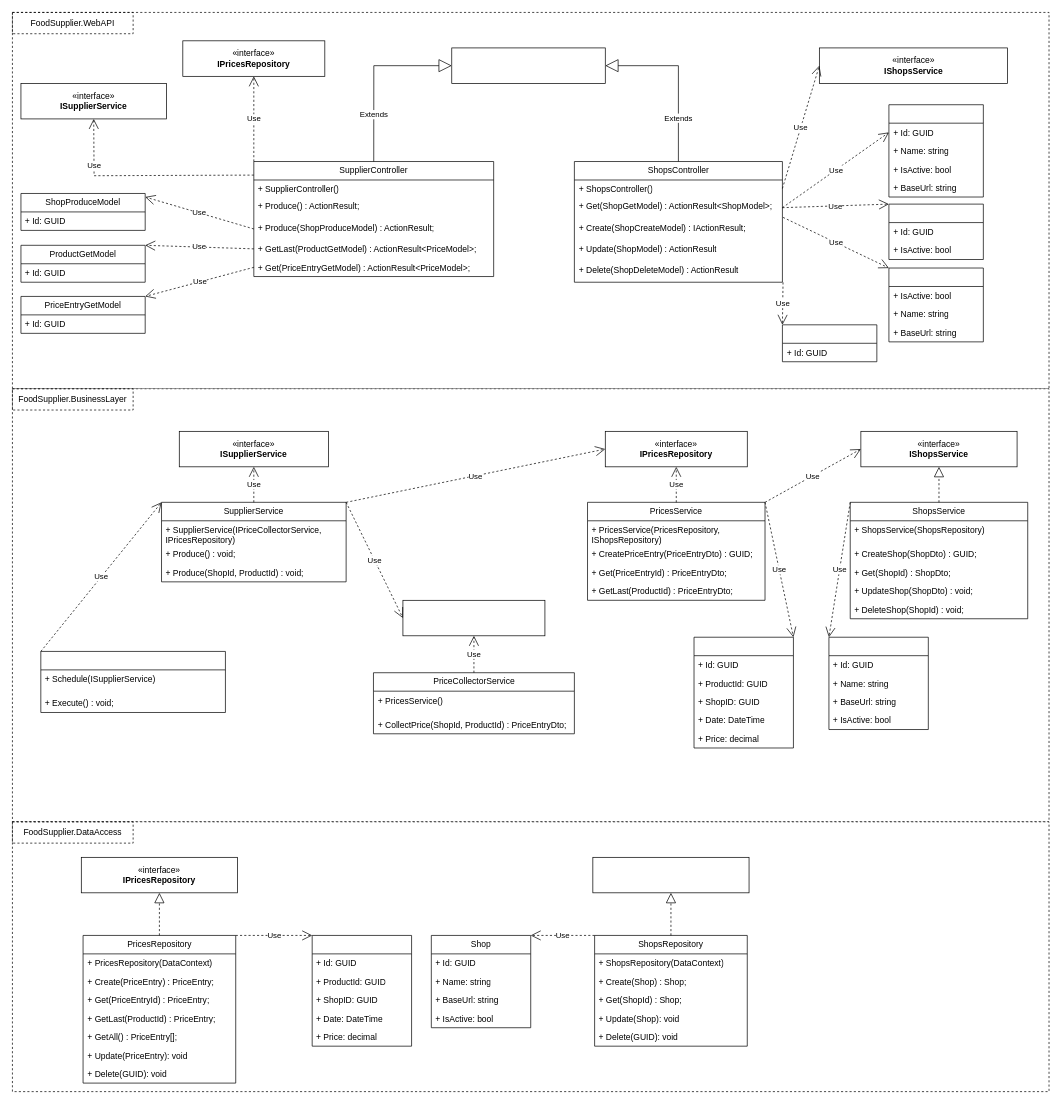
Some shapes in this 1061 by 1104 pixel diagram are drawn without their labels. The box of each missing label's shape, as (x1, y1, x2, y2) in pixels:
ControllerBase: (451, 47, 605, 83)
PriceEntry: (311, 935, 412, 1046)
PriceEntryDto: (693, 637, 793, 748)
ScheduleService: (40, 651, 225, 712)
ShopCreateModel: (888, 267, 983, 342)
ShopDeleteModel: (782, 324, 877, 362)
ShopDto: (828, 637, 928, 730)
ShopGetModel: (888, 203, 983, 260)
ShopModel: (888, 104, 983, 197)
«interface» IPriceCollectorService: (402, 600, 545, 636)
«interface» IShopsRepository: (592, 857, 749, 893)
